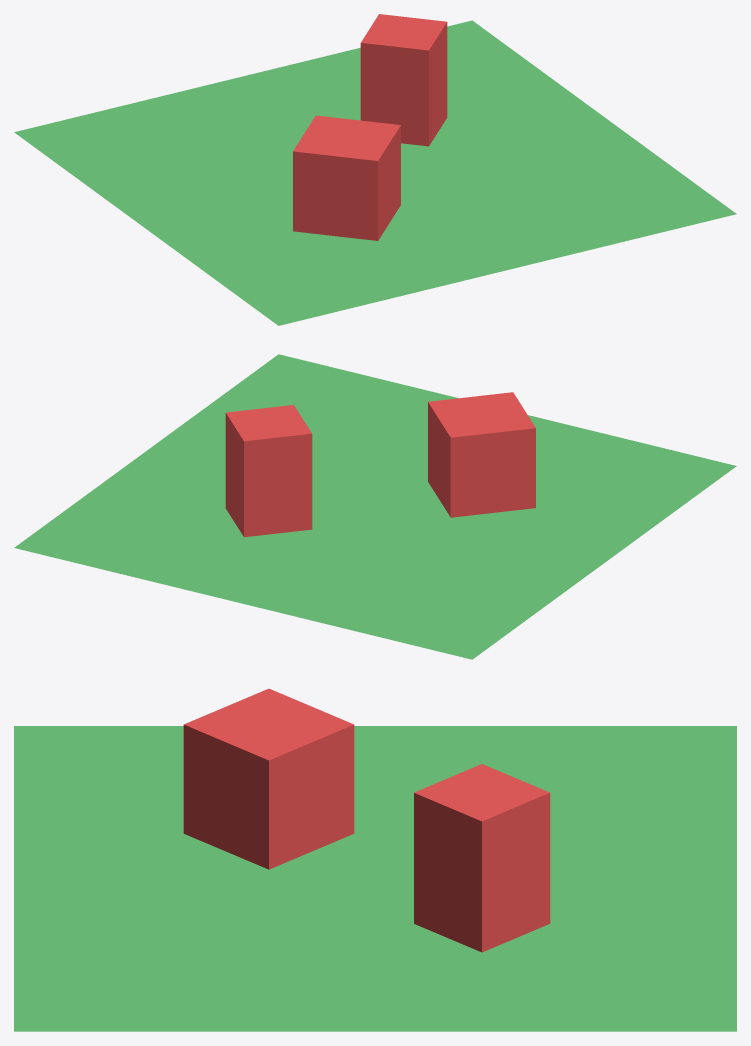
3 renders of one model, top to bottom at view 1: azimuth 30°, elevation 25°; view 2: azimuth 150°, elevation 25°; view 3: azimuth 270°, elevation 25°, orthographic. The views are drawn at different scales.
Parts seen in each view (by area): view 1: Ground, Red cube left, Red cube right; view 2: Ground, Red cube left, Red cube right; view 3: Ground, Red cube left, Red cube right.
Boxes of the visible parts, bbox=[...] form: Ground: bbox=[14, 20, 736, 325]; Red cube left: bbox=[293, 115, 400, 240]; Red cube right: bbox=[360, 14, 447, 146]; Ground: bbox=[14, 354, 736, 659]; Red cube left: bbox=[428, 392, 535, 517]; Red cube right: bbox=[225, 405, 312, 537]; Ground: bbox=[14, 726, 736, 1031]; Red cube left: bbox=[183, 688, 354, 869]; Red cube right: bbox=[414, 764, 550, 952].
Size of the model in its own units: 12 by 2.8 by 12.
